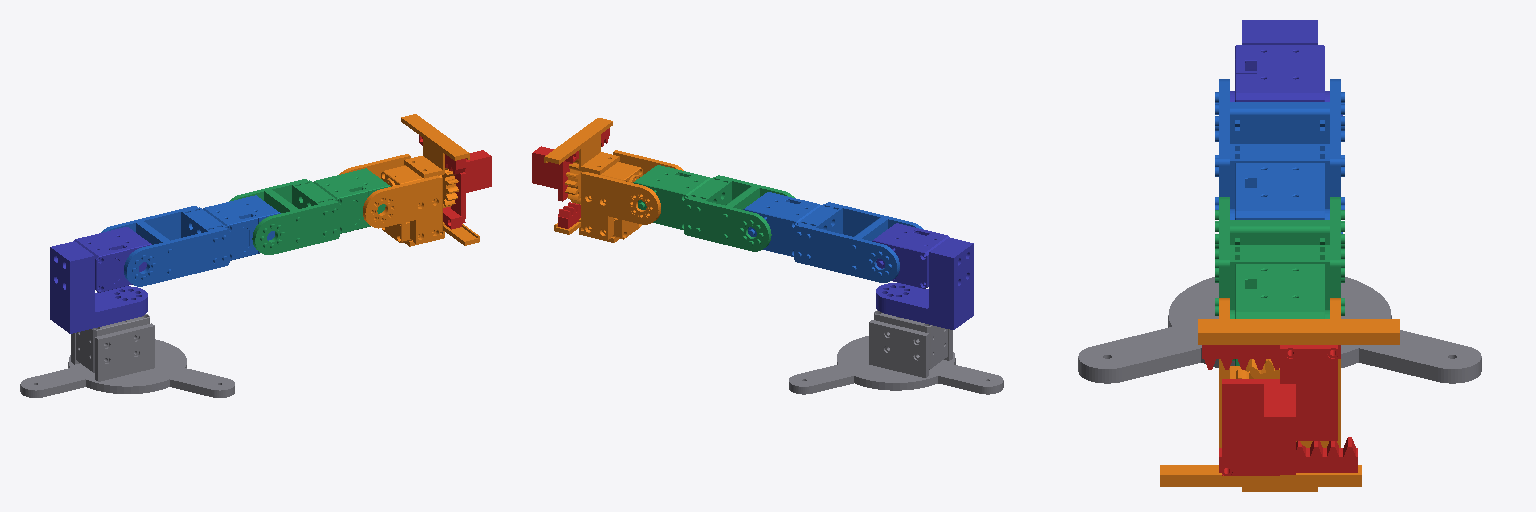
URDF robot description (braco2):
<?xml version="1.0"?>
<!-- ARQUIVO GERADO por cad/gerar_urdf.py: não editar à mão; mude o CAD ou os
     dados e gere de novo. O trecho world + base_link foi escrito primeiro à
     mão pelo Daniel (commit no Git) e é conferido pelo gerador. -->
<robot name="braco2">

  <!-- Pose zero: braço esticado na horizontal, apontando para +X.
       +X frente, +Y esquerda, +Z cima (REP-103); base_link na mesa, sob o eixo da base.
       Malhas no frame da PRÓPRIA junta (origin 0 0 0) e em mm (scale 0.001).
       Visual = peças detalhadas; colisão = uma <box> por peça (decisão D1; caixas_colisao.json). -->

  <material name="cinza"><color rgba="0.55 0.55 0.58 1.0"/></material>
  <material name="azul_escuro"><color rgba="0.30 0.30 0.75 1.0"/></material>
  <material name="azul"><color rgba="0.20 0.45 0.80 1.0"/></material>
  <material name="verde"><color rgba="0.20 0.65 0.40 1.0"/></material>
  <material name="laranja"><color rgba="0.95 0.55 0.15 1.0"/></material>
  <material name="vermelho"><color rgba="0.85 0.20 0.20 1.0"/></material>

  <!-- world: link vazio que segura a base (o braço é fixado na mesa). O KDL
       não aceita inércia no link raiz, e o MoveIt2 precisa de um frame fixo. -->
  <link name="world"/>
  <joint name="world_to_base" type="fixed">
    <parent link="world"/>
    <child link="base_link"/>
    <origin xyz="0 0 0" rpy="0 0 0"/>
  </joint>

  <!-- ===================== base_link ===================== -->
  <link name="base_link">
    <visual>
      <origin xyz="0 0 0" rpy="0 0 0"/>
      <geometry><mesh filename="package://braco2_description/meshes/base_link.stl" scale="0.001 0.001 0.001"/></geometry>
      <material name="cinza"/>
    </visual>
    <collision>
      <origin xyz="-0.01875 0 0.003" rpy="0 0 0"/>
      <geometry><box size="0.1365 0.153904 0.008"/></geometry>
    </collision>
    <collision>
      <origin xyz="-0.012 0 0.0225" rpy="0 0 0"/>
      <geometry><box size="0.0485 0.0405 0.035"/></geometry>
    </collision>
    <collision>
      <origin xyz="-0.012 0 0.02935" rpy="0 0 0"/>
      <geometry><box size="0.0485 0.0305 0.0447"/></geometry>
    </collision>
    <inertial>
      <origin xyz="-0.009115 0.000204 0.019000" rpy="0 0 0"/>
      <mass value="0.163529"/>
      <inertia ixx="1.05389732e-04" ixy="3.36721098e-07" ixz="1.32190372e-05" iyy="1.22373715e-04" iyz="-2.72612884e-07" izz="1.59760563e-04"/>
    </inertial>
  </link>

  <!-- ===================== link1 ===================== -->
  <link name="link1">
    <visual>
      <origin xyz="0 0 0" rpy="0 0 0"/>
      <geometry><mesh filename="package://braco2_description/meshes/link1.stl" scale="0.001 0.001 0.001"/></geometry>
      <material name="azul_escuro"/>
    </visual>
    <collision>
      <origin xyz="-0.0205 0 0.02825" rpy="0 0 0"/>
      <geometry><box size="0.0715 0.0305 0.0585"/></geometry>
    </collision>
    <collision>
      <origin xyz="-0.012 0.00235 0.04225" rpy="0 0 0"/>
      <geometry><box size="0.0485 0.0447 0.0305"/></geometry>
    </collision>
    <inertial>
      <origin xyz="-0.023308 0.001280 0.032799" rpy="0 0 0"/>
      <mass value="0.146220"/>
      <inertia ixx="5.17310159e-05" ixy="-3.32454185e-06" ixz="-2.27066681e-06" iyy="8.97761574e-05" iyz="-1.76275354e-06" izz="6.22354889e-05"/>
    </inertial>
  </link>

  <!-- ===================== link2 ===================== -->
  <link name="link2">
    <visual>
      <origin xyz="0 0 0" rpy="0 0 0"/>
      <geometry><mesh filename="package://braco2_description/meshes/link2.stl" scale="0.001 0.001 0.001"/></geometry>
      <material name="azul"/>
    </visual>
    <collision>
      <origin xyz="0.02775 0.021 0" rpy="0 0 0"/>
      <geometry><box size="0.086 0.006 0.0305"/></geometry>
    </collision>
    <collision>
      <origin xyz="0.02775 -0.021 0" rpy="0 0 0"/>
      <geometry><box size="0.086 0.006 0.0305"/></geometry>
    </collision>
    <collision>
      <origin xyz="0.02125 0 0" rpy="0 0 0"/>
      <geometry><box size="0.0095 0.04 0.0305"/></geometry>
    </collision>
    <collision>
      <origin xyz="0.06225 0 0" rpy="0 0 0"/>
      <geometry><box size="0.017 0.04 0.0305"/></geometry>
    </collision>
    <collision>
      <origin xyz="0.093 0.00235 0" rpy="0 0 0"/>
      <geometry><box size="0.0485 0.0447 0.0305"/></geometry>
    </collision>
    <inertial>
      <origin xyz="0.067687 0.001286 -0.000229" rpy="0 0 0"/>
      <mass value="0.145509"/>
      <inertia ixx="3.49445009e-05" ixy="-5.94484335e-06" ixz="6.04589824e-07" iyy="1.54922917e-04" iyz="-3.73676032e-08" izz="1.71239124e-04"/>
    </inertial>
  </link>

  <!-- ===================== link3 ===================== -->
  <link name="link3">
    <visual>
      <origin xyz="0 0 0" rpy="0 0 0"/>
      <geometry><mesh filename="package://braco2_description/meshes/link3.stl" scale="0.001 0.001 0.001"/></geometry>
      <material name="verde"/>
    </visual>
    <collision>
      <origin xyz="0.02025 0.021 0" rpy="0 0 0"/>
      <geometry><box size="0.071 0.006 0.0305"/></geometry>
    </collision>
    <collision>
      <origin xyz="0.02025 -0.021 0" rpy="0 0 0"/>
      <geometry><box size="0.071 0.006 0.0305"/></geometry>
    </collision>
    <collision>
      <origin xyz="0.02125 0 0" rpy="0 0 0"/>
      <geometry><box size="0.0095 0.04 0.0305"/></geometry>
    </collision>
    <collision>
      <origin xyz="0.04725 0 0" rpy="0 0 0"/>
      <geometry><box size="0.017 0.04 0.0305"/></geometry>
    </collision>
    <collision>
      <origin xyz="0.078 0.00235 0" rpy="0 0 0"/>
      <geometry><box size="0.0485 0.0447 0.0305"/></geometry>
    </collision>
    <inertial>
      <origin xyz="0.053964 0.001193 -0.000213" rpy="0 0 0"/>
      <mass value="0.124269"/>
      <inertia ixx="3.00560734e-05" ixy="-4.52300481e-06" ixz="4.45460597e-07" iyy="9.97806231e-05" iyz="-2.71767370e-08" izz="1.13955943e-04"/>
    </inertial>
  </link>

  <!-- ===================== link4 ===================== -->
  <link name="link4">
    <visual>
      <origin xyz="0 0 0" rpy="0 0 0"/>
      <geometry><mesh filename="package://braco2_description/meshes/link4.stl" scale="0.001 0.001 0.001"/></geometry>
      <material name="laranja"/>
    </visual>
    <collision>
      <origin xyz="0.016375 0.018625 -0.009375" rpy="0 0 0"/>
      <geometry><box size="0.06325 0.01075 0.04925"/></geometry>
    </collision>
    <collision>
      <origin xyz="0.016375 -0.018625 -0.009375" rpy="0 0 0"/>
      <geometry><box size="0.06325 0.01075 0.04925"/></geometry>
    </collision>
    <collision>
      <origin xyz="0.03935 0 -0.012" rpy="0 0 0"/>
      <geometry><box size="0.0447 0.0305 0.0485"/></geometry>
    </collision>
    <collision>
      <origin xyz="0.0526 0.007038 0.021625" rpy="0 0 0"/>
      <geometry><box size="0.0292 0.077925 0.02275"/></geometry>
    </collision>
    <collision>
      <origin xyz="0.0466 -0.007038 -0.032875" rpy="0 0 0"/>
      <geometry><box size="0.0412 0.077925 0.01375"/></geometry>
    </collision>
    <collision>
      <origin xyz="0.06 0 0" rpy="0 0 0"/>
      <geometry><box size="0.01 0.041975 0.041865"/></geometry>
    </collision>
    <inertial>
      <origin xyz="0.038535 -0.000205 -0.011007" rpy="0 0 0"/>
      <mass value="0.129153"/>
      <inertia ixx="6.09036574e-05" ixy="-3.62067470e-08" ixz="-1.29674768e-06" iyy="7.06973307e-05" iyz="-1.93013849e-06" izz="5.84227981e-05"/>
    </inertial>
  </link>

  <!-- ===================== mordente_cima ===================== -->
  <link name="mordente_cima">
    <visual>
      <origin xyz="0 0 0" rpy="0 0 0"/>
      <geometry><mesh filename="package://braco2_description/meshes/mordente_cima.stl" scale="0.001 0.001 0.001"/></geometry>
      <material name="vermelho"/>
    </visual>
    <collision>
      <origin xyz="0.06025 -0.003212 0.02225" rpy="0 0 0"/>
      <geometry><box size="0.0105 0.054425 0.0145"/></geometry>
    </collision>
    <collision>
      <origin xyz="0.0815 0.011 0.00725" rpy="0 0 0"/>
      <geometry><box size="0.036 0.024 0.0405"/></geometry>
    </collision>
    <inertial>
      <origin xyz="0.070182 0.003014 0.011064" rpy="0 0 0"/>
      <mass value="0.015549"/>
      <inertia ixx="4.49258831e-06" ixy="-2.40560988e-07" ixz="1.42936863e-06" iyy="4.46525180e-06" iyz="5.06167374e-07" izz="3.97863197e-06"/>
    </inertial>
  </link>

  <!-- ===================== mordente_baixo ===================== -->
  <link name="mordente_baixo">
    <visual>
      <origin xyz="0 0 0" rpy="0 0 0"/>
      <geometry><mesh filename="package://braco2_description/meshes/mordente_baixo.stl" scale="0.001 0.001 0.001"/></geometry>
      <material name="vermelho"/>
    </visual>
    <collision>
      <origin xyz="0.06025 0.003212 -0.02225" rpy="0 0 0"/>
      <geometry><box size="0.0105 0.054425 0.0145"/></geometry>
    </collision>
    <collision>
      <origin xyz="0.0815 -0.011 -0.00725" rpy="0 0 0"/>
      <geometry><box size="0.036 0.024 0.0405"/></geometry>
    </collision>
    <inertial>
      <origin xyz="0.070182 -0.003014 -0.011064" rpy="0 0 0"/>
      <mass value="0.015549"/>
      <inertia ixx="4.49258831e-06" ixy="2.40560988e-07" ixz="-1.42936863e-06" iyy="4.46525180e-06" iyz="5.06167374e-07" izz="3.97863197e-06"/>
    </inertial>
  </link>

  <!-- base: gira em torno de Z. Servo XM430-W350-T: effort = stall a 12 V (4.1 N.m),
       velocity = 46 rev/min sem carga. Limites: -180 a +180 graus. -->
  <joint name="junta_base" type="revolute">
    <parent link="base_link"/>
    <child link="link1"/>
    <origin xyz="0 0 0.046" rpy="0 0 0"/>
    <axis xyz="0 0 1"/>
    <limit lower="-3.14159" upper="3.14159" effort="4.1" velocity="4.817"/>
  </joint>

  <!-- ombro: positivo levanta o braço. Servo XM430-W350-T: effort = stall a 12 V (4.1 N.m),
       velocity = 46 rev/min sem carga. Limites: -54 a +90 graus. -->
  <joint name="junta_ombro" type="revolute">
    <parent link="link1"/>
    <child link="link2"/>
    <origin xyz="0 0 0.04225" rpy="0 0 0"/>
    <axis xyz="0 -1 0"/>
    <limit lower="-0.94247" upper="1.57079" effort="4.1" velocity="4.817"/>
  </joint>

  <!-- cotovelo: positivo levanta o antebraço. Servo XM430-W350-T: effort = stall a 12 V (4.1 N.m),
       velocity = 46 rev/min sem carga. Limites: -90 a +90 graus. -->
  <joint name="junta_cotovelo" type="revolute">
    <parent link="link2"/>
    <child link="link3"/>
    <origin xyz="0.105 0 0" rpy="0 0 0"/>
    <axis xyz="0 -1 0"/>
    <limit lower="-1.57079" upper="1.57079" effort="4.1" velocity="4.817"/>
  </joint>

  <!-- punho: positivo levanta a mão. Servo XC430-W240-T: effort = stall a 12 V (1.9 N.m),
       velocity = 70 rev/min sem carga. Limites: -90 a +90 graus. -->
  <joint name="junta_punho" type="revolute">
    <parent link="link3"/>
    <child link="link4"/>
    <origin xyz="0.09 0 0" rpy="0 0 0"/>
    <axis xyz="0 -1 0"/>
    <limit lower="-1.57079" upper="1.57079" effort="1.9" velocity="7.330"/>
  </joint>

  <!-- Garra: pinhão m2 z18 (R = 18 mm) no XC430-W240-T. Cada mordente anda
       0 a 20 mm (0 = fechada); effort = stall / (2 R) = 52.8 N,
       velocity = ω·R. O de baixo copia o de cima (mimic): no robô real é o mesmo
       pinhão, então só junta_garra é comandada. -->
  <joint name="junta_garra" type="prismatic">
    <parent link="link4"/>
    <child link="mordente_cima"/>
    <origin xyz="0 0 0" rpy="0 0 0"/>
    <axis xyz="0 1 0"/>
    <limit lower="0" upper="0.02" effort="52.8" velocity="0.1319"/>
  </joint>

  <joint name="junta_garra_espelho" type="prismatic">
    <parent link="link4"/>
    <child link="mordente_baixo"/>
    <origin xyz="0 0 0" rpy="0 0 0"/>
    <axis xyz="0 -1 0"/>
    <limit lower="0" upper="0.02" effort="52.8" velocity="0.1319"/>
    <mimic joint="junta_garra" multiplier="1" offset="0"/>
  </joint>

  <!-- TCP: frame sem geometria entre os dedos, no meio do comprimento deles.
       É o ponto que a cinemática inversa posiciona (L4 = 83.5 mm do punho). -->
  <link name="tcp"/>
  <joint name="junta_tcp" type="fixed">
    <parent link="link4"/>
    <child link="tcp"/>
    <origin xyz="0.0835 0 0" rpy="0 0 0"/>
  </joint>

</robot>

--- Facts derived from the render (not from the file) ---
3 views of the same robot in one strip: view 1: azimuth 30°, elevation 25°; view 2: azimuth 150°, elevation 25°; view 3: azimuth 270°, elevation 25° (orthographic).
Model braco2 with 9 links and 8 joints (4 revolute, 2 prismatic, 2 fixed), rooted at world, posed every joint at zero.
Links seen in each view (by area): view 1: base_link, link2, link4, link1, link3, mordente_baixo; view 2: base_link, link2, link4, link1, link3, mordente_cima, mordente_baixo; view 3: link2, link3, base_link, link4, mordente_cima, mordente_baixo, link1.
Link boxes in pixels (x1,y1,x2,y2): base_link: (20,314,234,397); link2: (101,195,280,286); link4: (339,114,479,246); link1: (50,227,151,333); link3: (229,168,390,254); mordente_baixo: (443,153,491,229); base_link: (789,310,1003,394); link2: (743,192,923,282); link4: (544,118,683,242); link1: (872,223,973,329); link3: (633,165,794,251); mordente_cima: (532,128,609,201); mordente_baixo: (537,146,580,228); link2: (1215,79,1344,233); link3: (1215,197,1344,365); base_link: (1078,277,1481,383); link4: (1160,298,1399,491); mordente_cima: (1202,345,1340,474); mordente_baixo: (1219,379,1357,475); link1: (1230,20,1342,115).
Size in the robot's own frame: 0.3795 by 0.1519 by 0.1203 metres.
Meshes: 7 distinct files referenced, 7 mesh visuals loaded (7 binary STL).
